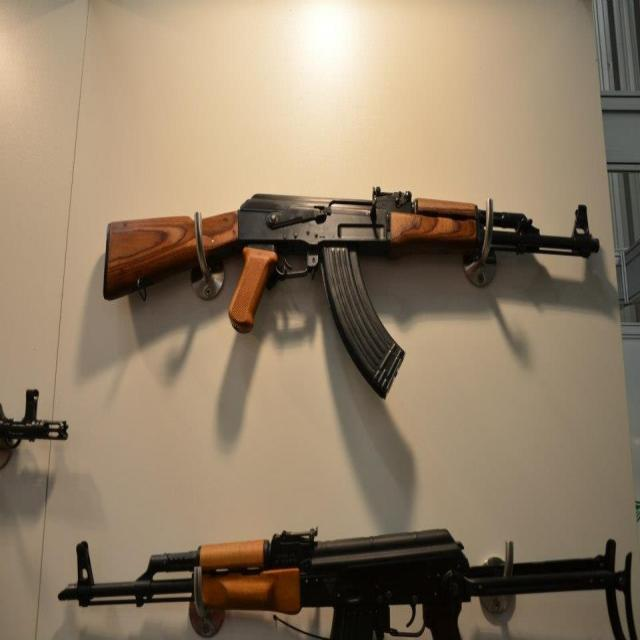firearm: (101, 179, 602, 403), (57, 521, 640, 640), (0, 382, 69, 454)
